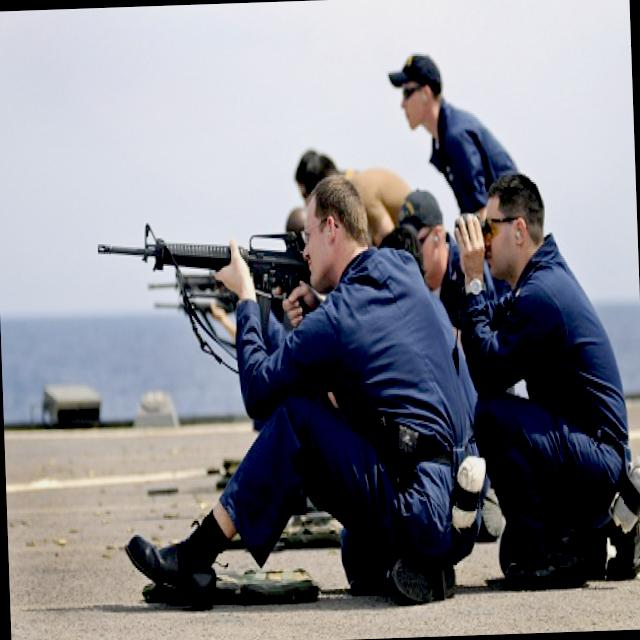m16: (86, 187, 308, 318)
